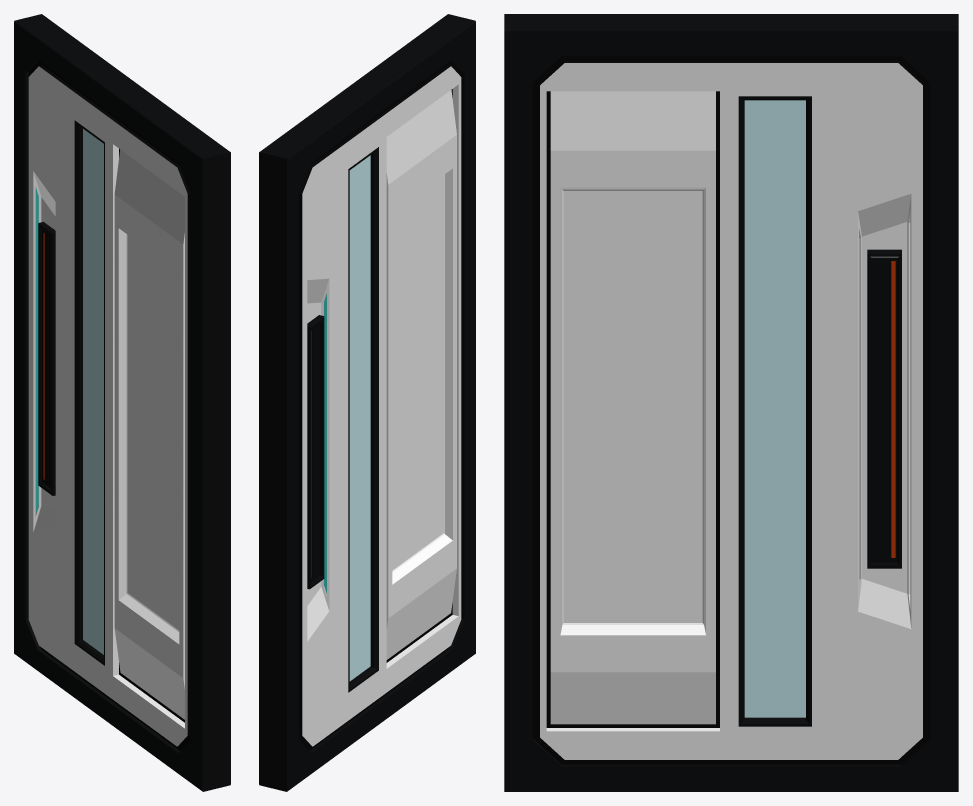
The model's file is SM_Door_Double_V1L.obj.
3 renders of one model, left to right at view 1: azimuth 30°, elevation 25°; view 2: azimuth 150°, elevation 25°; view 3: azimuth 270°, elevation 25°, orthographic. The views are drawn at different scales.
Parts seen in each view (by area): view 1: SM_Door_Double_V1L; view 2: SM_Door_Double_V1L; view 3: SM_Door_Double_V1L.
Part boxes in pixels (x1,y1,x2,y2): SM_Door_Double_V1L: [14, 14, 230, 791]; SM_Door_Double_V1L: [259, 14, 475, 791]; SM_Door_Double_V1L: [504, 14, 958, 791].
Bounding box in the file's own units: 0.0885 × 1.85 × 1.
